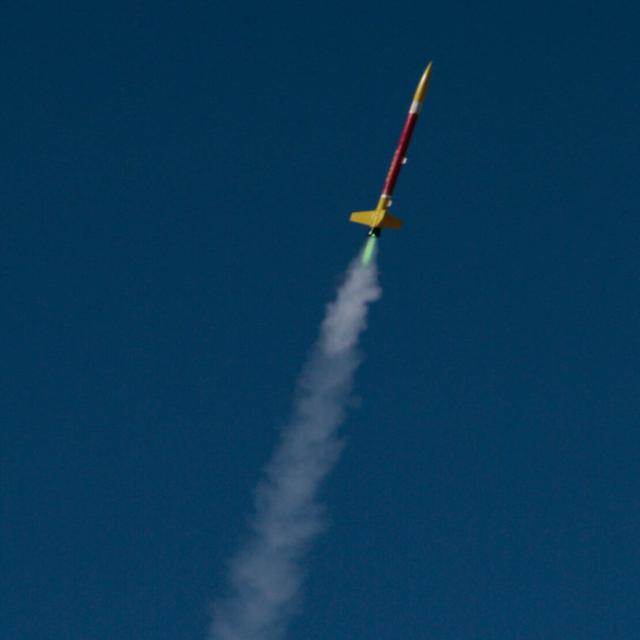Rocket: (349, 60, 434, 239)
